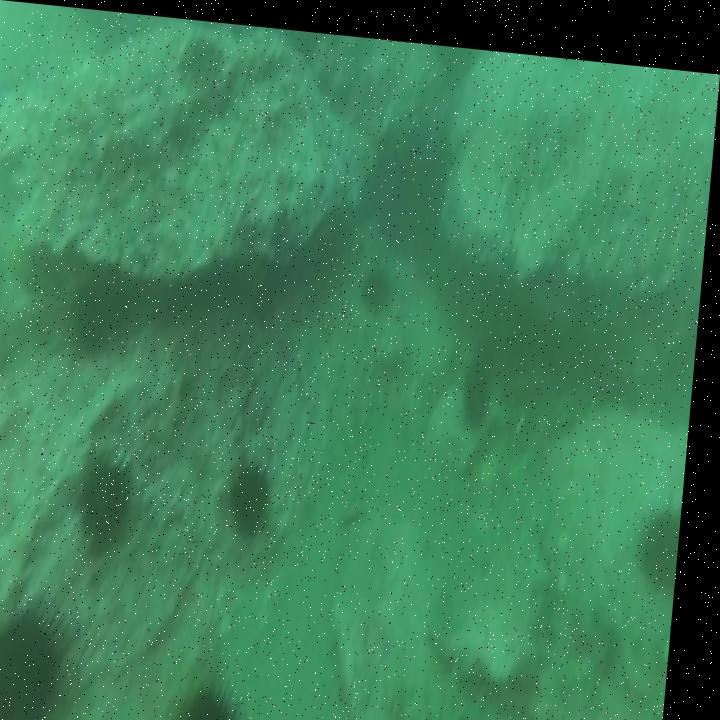echinus: (0, 588, 125, 720), (77, 438, 151, 561), (67, 269, 126, 364), (176, 660, 267, 720), (644, 477, 691, 583), (233, 445, 283, 539), (460, 344, 503, 423), (361, 255, 401, 313)
